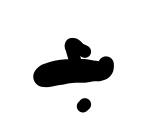div: (33, 37, 114, 113)
